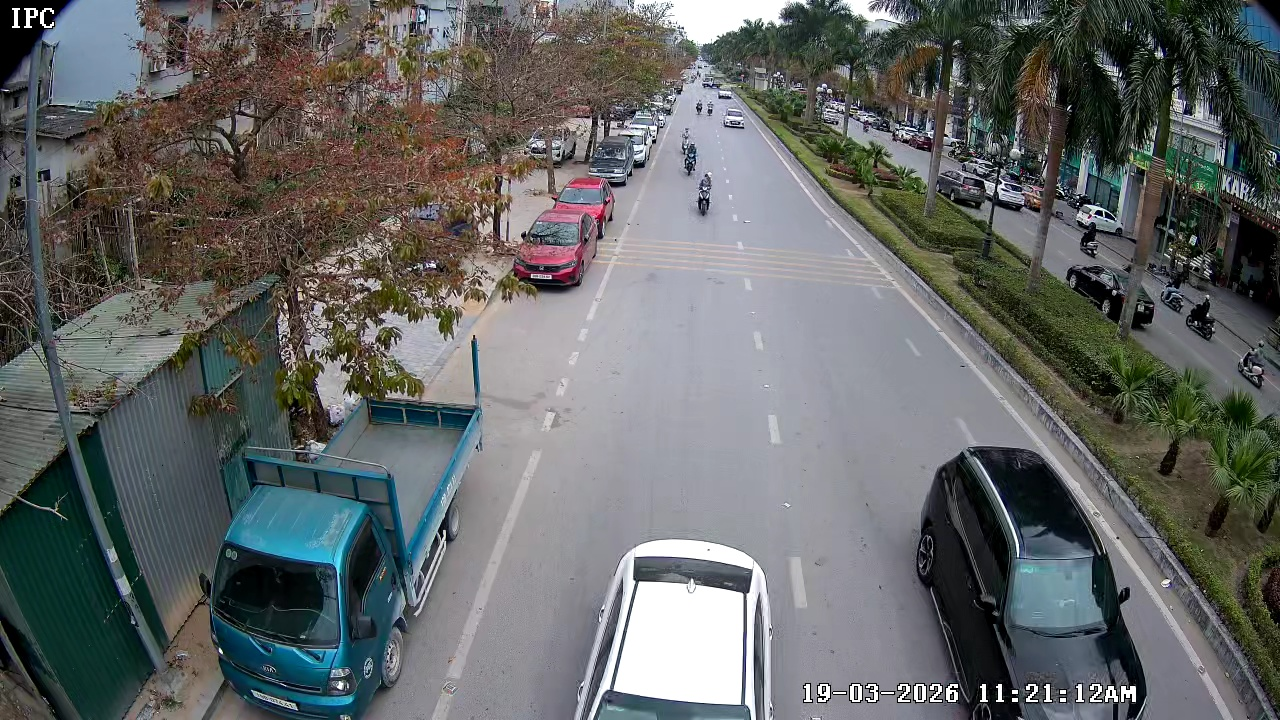car: (913, 443, 1150, 719), (568, 524, 789, 718), (513, 211, 591, 291), (554, 177, 615, 232), (588, 124, 632, 192), (723, 104, 747, 129)
motorbike: (693, 170, 718, 217), (681, 138, 703, 177)
